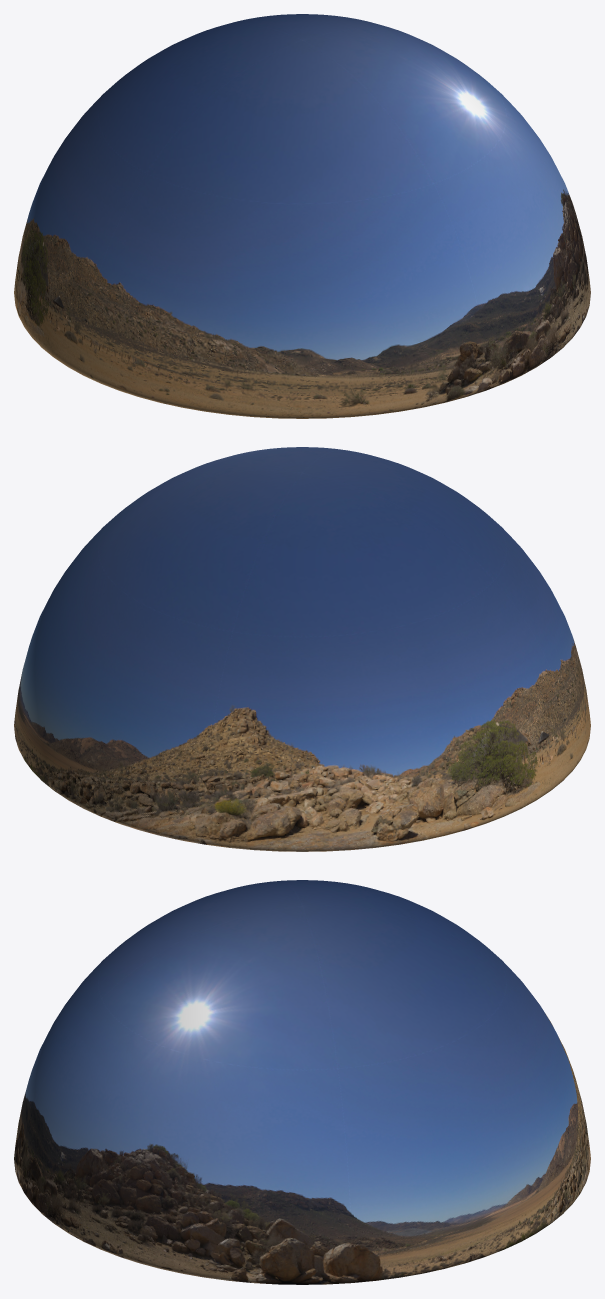
The model's file is dome.glb.
3 renders of one model, top to bottom at view 1: azimuth 30°, elevation 25°; view 2: azimuth 150°, elevation 25°; view 3: azimuth 270°, elevation 25°, orthographic.
Visible parts, largest first — view 1: dome.001; view 2: dome.001; view 3: dome.001.
Part boxes in pixels (x1,y1,x2,y2): dome.001: (14, 14, 590, 418); dome.001: (14, 447, 590, 851); dome.001: (14, 880, 590, 1284).
Bounding box in the file's own units: 25.96 × 13.09 × 25.96.
Materials: 1 (1 with a texture image).
